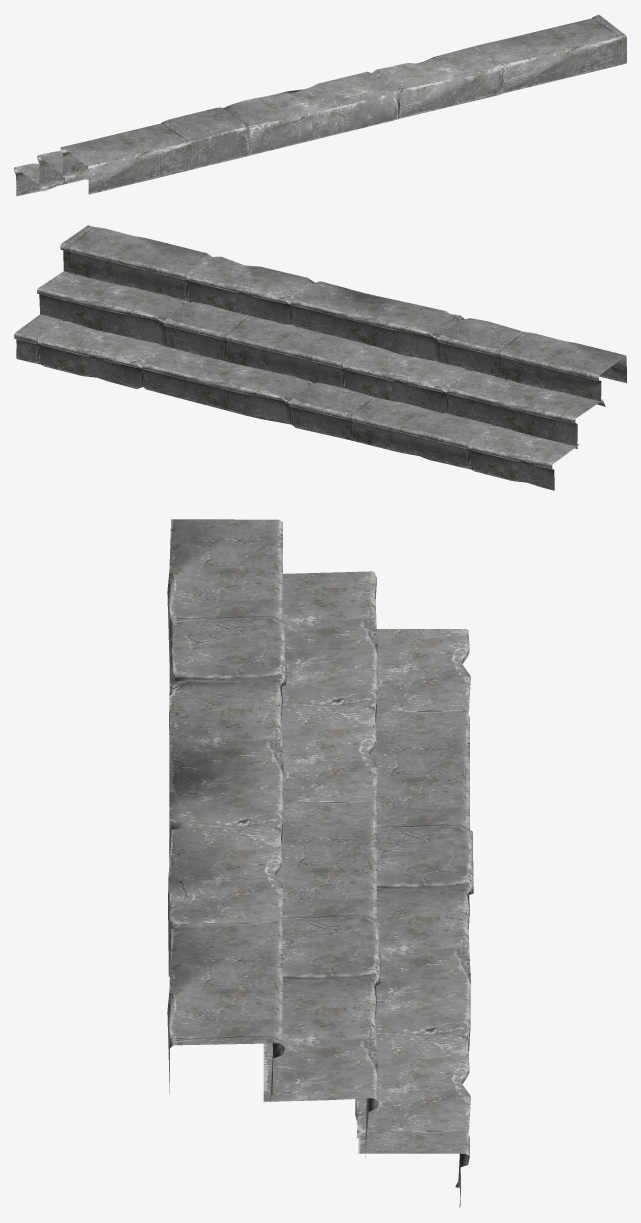
3 renders of one model, top to bottom at view 1: azimuth 30°, elevation 25°; view 2: azimuth 150°, elevation 25°; view 3: azimuth 270°, elevation 25°, orthographic. The views are drawn at different scales.
Visible parts, largest first — view 1: SM_Steps03_LOD0; view 2: SM_Steps03_LOD0; view 3: SM_Steps03_LOD0.
Part boxes in pixels (left/top/right/bottom): SM_Steps03_LOD0: left=14, top=14, right=626, bottom=196; SM_Steps03_LOD0: left=14, top=225, right=626, bottom=490; SM_Steps03_LOD0: left=167, top=519, right=473, bottom=1207.
Bounding box in the file's own units: 6.03 × 0.8968 × 1.48.
Materials: 1 (1 with a texture image).
